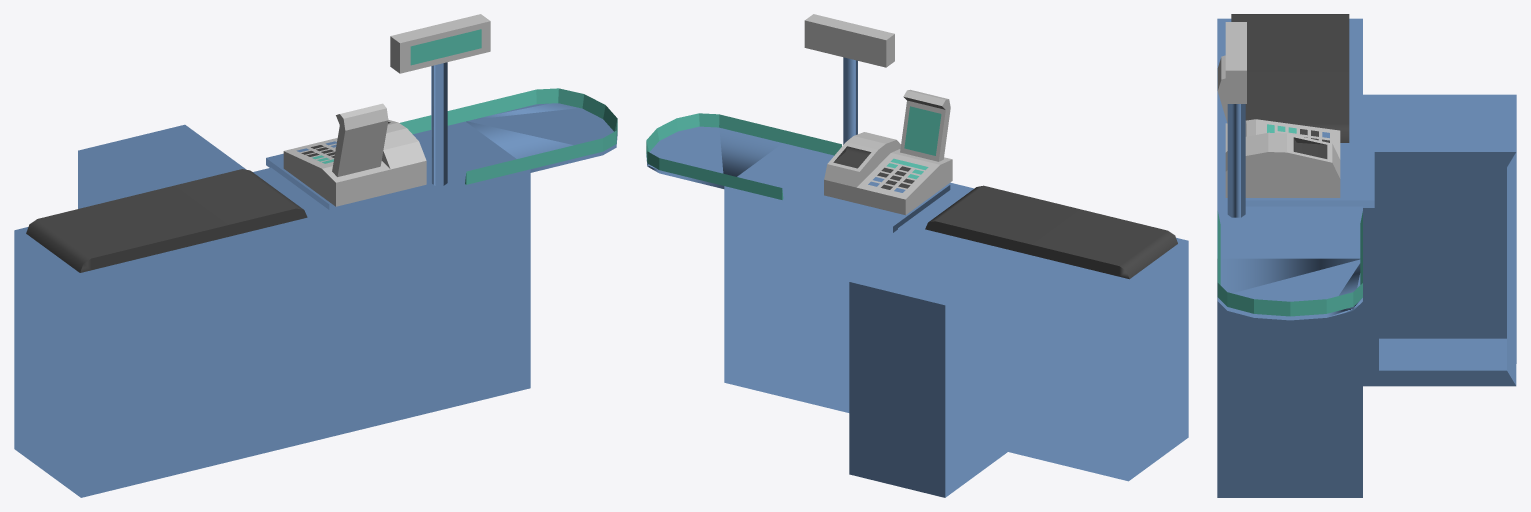
The model's file is cash_desk.dae.
3 renders of one model, left to right at view 1: azimuth 30°, elevation 25°; view 2: azimuth 150°, elevation 25°; view 3: azimuth 270°, elevation 25°, orthographic. The views are drawn at different scales.
Visible parts, largest first — view 1: 9.0.242.0_Pts_Material_(3)_Surf, 9.0.242.0_Pts_Material_(1)_Surf, 9.0.242.0_Pts_Material_(2)_Surf, 9.0.242.0_Pts_Material_(4)_Surf, 9.0.242.0_Pts_Material_(5)_Surf; view 2: 9.0.242.0_Pts_Material_(3)_Surf, 9.0.242.0_Pts_Material_(1)_Surf, 9.0.242.0_Pts_Material_(2)_Surf, 9.0.242.0_Pts_Material_(4)_Surf, 9.0.242.0_Pts_Material_(5)_Surf; view 3: 9.0.242.0_Pts_Material_(3)_Surf, 9.0.242.0_Pts_Material_(1)_Surf, 9.0.242.0_Pts_Material_(2)_Surf, 9.0.242.0_Pts_Material_(5)_Surf, 9.0.242.0_Pts_Material_(4)_Surf.
Part boxes in pixels (box(x1,y1,x2,y2)): 9.0.242.0_Pts_Material_(3)_Surf: box(14, 62, 530, 497); 9.0.242.0_Pts_Material_(1)_Surf: box(26, 122, 390, 272); 9.0.242.0_Pts_Material_(2)_Surf: box(283, 14, 490, 206); 9.0.242.0_Pts_Material_(4)_Surf: box(312, 29, 617, 184); 9.0.242.0_Pts_Material_(5)_Surf: box(466, 103, 617, 172); 9.0.242.0_Pts_Material_(3)_Surf: box(724, 57, 1188, 497); 9.0.242.0_Pts_Material_(1)_Surf: box(833, 97, 1177, 279); 9.0.242.0_Pts_Material_(2)_Surf: box(804, 14, 952, 215); 9.0.242.0_Pts_Material_(4)_Surf: box(646, 106, 941, 199); 9.0.242.0_Pts_Material_(5)_Surf: box(646, 126, 782, 188); 9.0.242.0_Pts_Material_(3)_Surf: box(1217, 18, 1516, 497); 9.0.242.0_Pts_Material_(1)_Surf: box(1231, 14, 1349, 158); 9.0.242.0_Pts_Material_(2)_Surf: box(1217, 22, 1340, 197); 9.0.242.0_Pts_Material_(5)_Surf: box(1217, 258, 1362, 320); 9.0.242.0_Pts_Material_(4)_Surf: box(1217, 124, 1362, 316).
Bounding box in the file's own units: 28.51 × 18.22 × 12.11.
